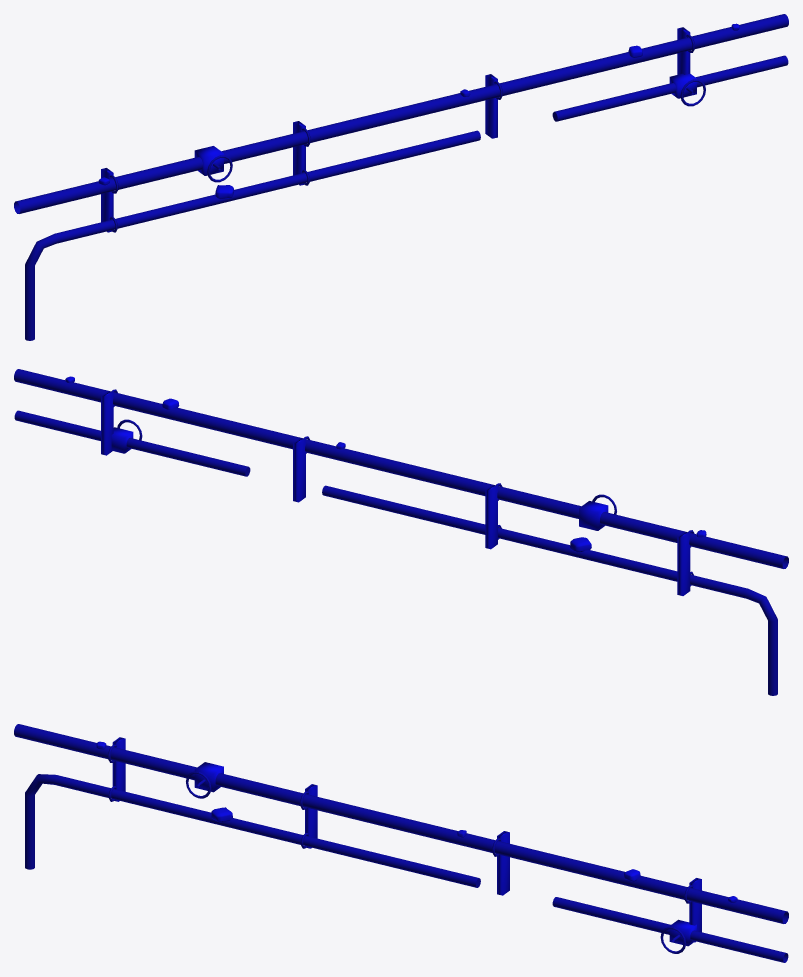
Rendered from pipe_run.glb.
3 renders of one model, top to bottom at view 1: azimuth 30°, elevation 25°; view 2: azimuth 150°, elevation 25°; view 3: azimuth 330°, elevation 25°, orthographic.
Visible parts, largest first — view 1: pipe_run; view 2: pipe_run; view 3: pipe_run.
Boxes of the visible parts, left/top/right/bottom form: pipe_run: left=14, top=14, right=788, bottom=340; pipe_run: left=14, top=369, right=788, bottom=695; pipe_run: left=14, top=724, right=788, bottom=962.
Size of what is drawn, in the model's own units: 6 by 1.1 by 0.2825.
